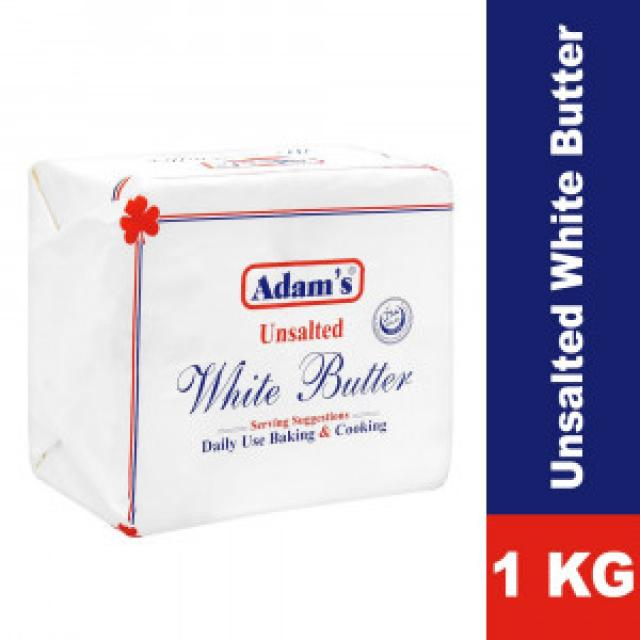butter: (26, 143, 452, 538)
